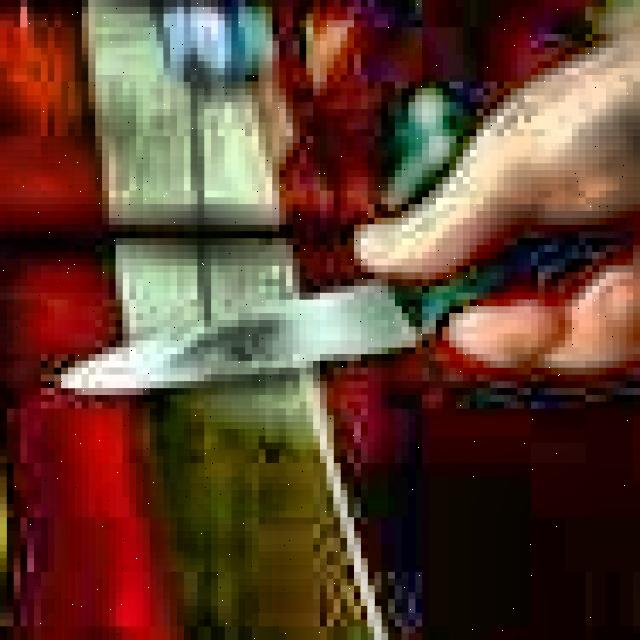knife: (66, 229, 631, 401)
